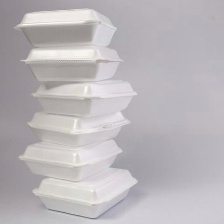foam_box: (29, 164, 141, 220), (14, 136, 127, 183), (9, 4, 121, 51), (27, 75, 141, 119), (23, 104, 133, 149), (16, 41, 129, 84)
